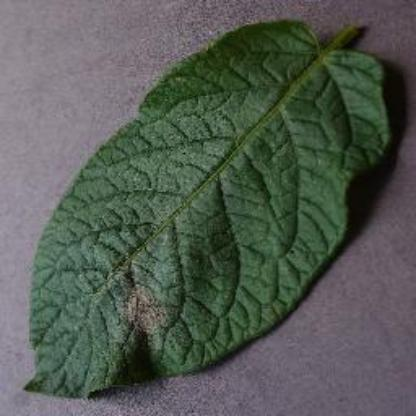Late-Blight: (26, 21, 390, 394)
